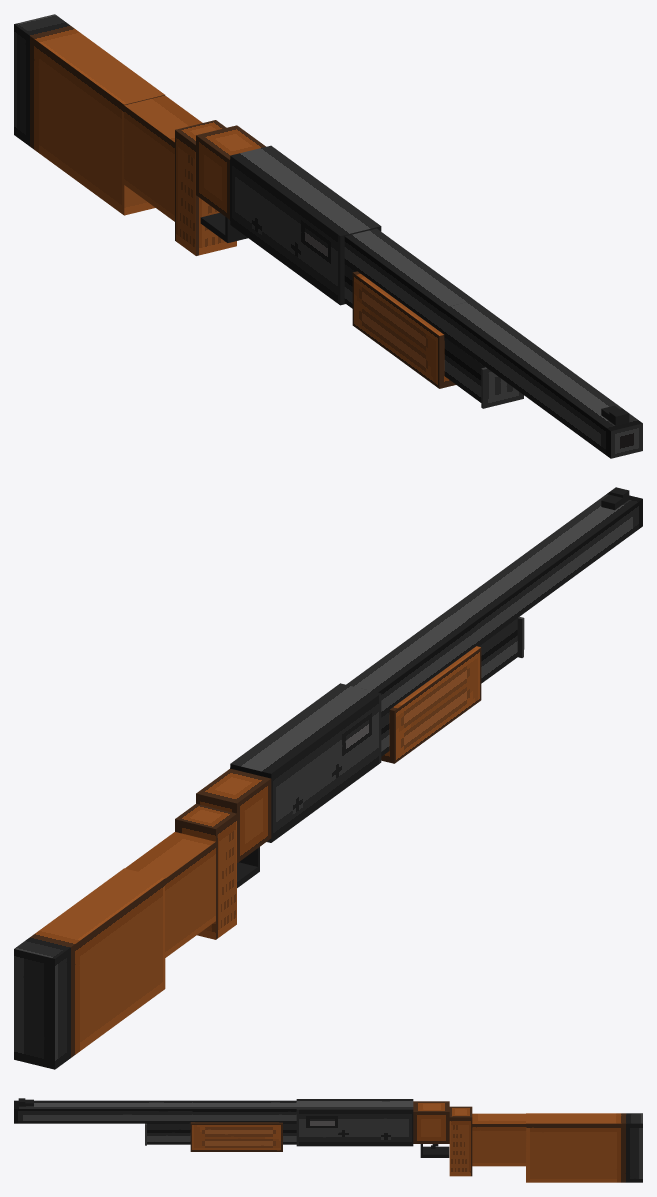
The model's file is BGN_PUMP SHOTGUN.fbx.
The picture shows the model from 3 angles, top to bottom: view 1: azimuth 30°, elevation 25°; view 2: azimuth 150°, elevation 25°; view 3: azimuth 270°, elevation 25°; orthographic projection. The views are drawn at different scales.
Parts seen in each view (by area): view 1: BGN_PUMP_SHOTGUN, CLIP; view 2: BGN_PUMP_SHOTGUN, CLIP; view 3: BGN_PUMP_SHOTGUN, CLIP.
Part boxes in pixels (box(x1,y1,x2,y2)): BGN_PUMP_SHOTGUN: box(14, 14, 642, 458); CLIP: box(352, 271, 455, 388); BGN_PUMP_SHOTGUN: box(14, 487, 642, 1069); CLIP: box(381, 646, 481, 763); BGN_PUMP_SHOTGUN: box(14, 1098, 642, 1182); CLIP: box(190, 1122, 282, 1151).
Size of the model in its own units: 10.51 by 35.15 by 260.
Materials: 1 (1 with a texture image).
